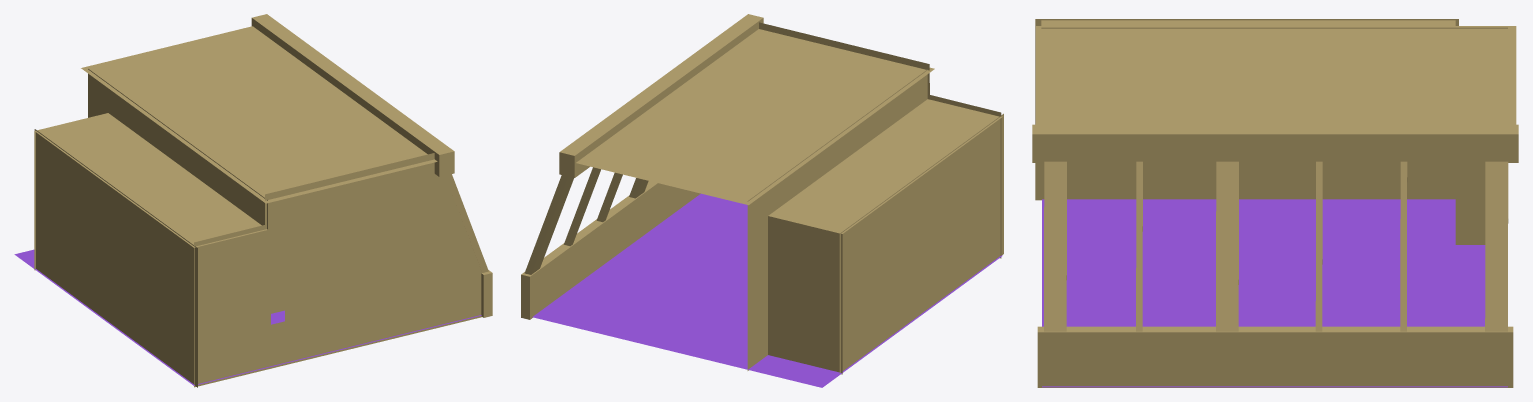
The model's file is classroomV4_New.fbx.
3 renders of one model, left to right at view 1: azimuth 30°, elevation 25°; view 2: azimuth 150°, elevation 25°; view 3: azimuth 270°, elevation 25°, orthographic. The views are drawn at different scales.
Parts seen in each view (by area): view 1: wallFront; view 2: wallFront; view 3: wallFront.
Part boxes in pixels (x1=…): wallFront: x1=14, y1=14, x2=492, y2=387; wallFront: x1=521, y1=14, x2=1003, y2=387; wallFront: x1=1032, y1=19, x2=1518, y2=387.
Bounding box in the file's own units: 98.01 × 55.55 × 107.
